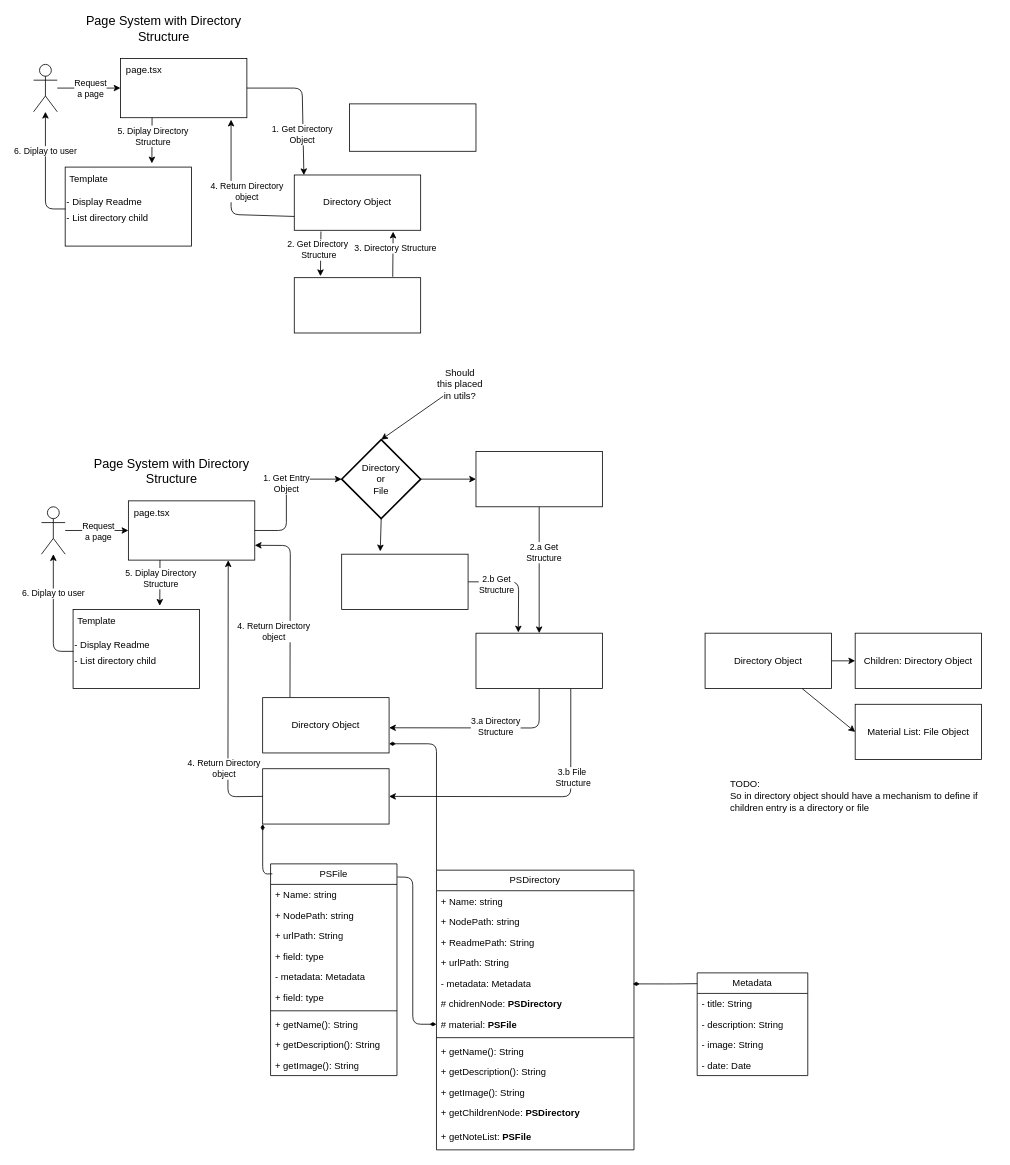
Image size: 1010x1165. Some labels were removed from this diagram. The shapes that lost their labels are listed below. From the top down, each one's centre as x and y in pixels, then its label:
the point at 412,127: Url Structure should be the same with the Directory Structure
the point at 357,305: Directory Structure
the point at 538,479: Directory Entry Class
the point at 404,581: File Entry Class
the point at 538,660: OS Directory/File Structure
the point at 325,796: File Object
